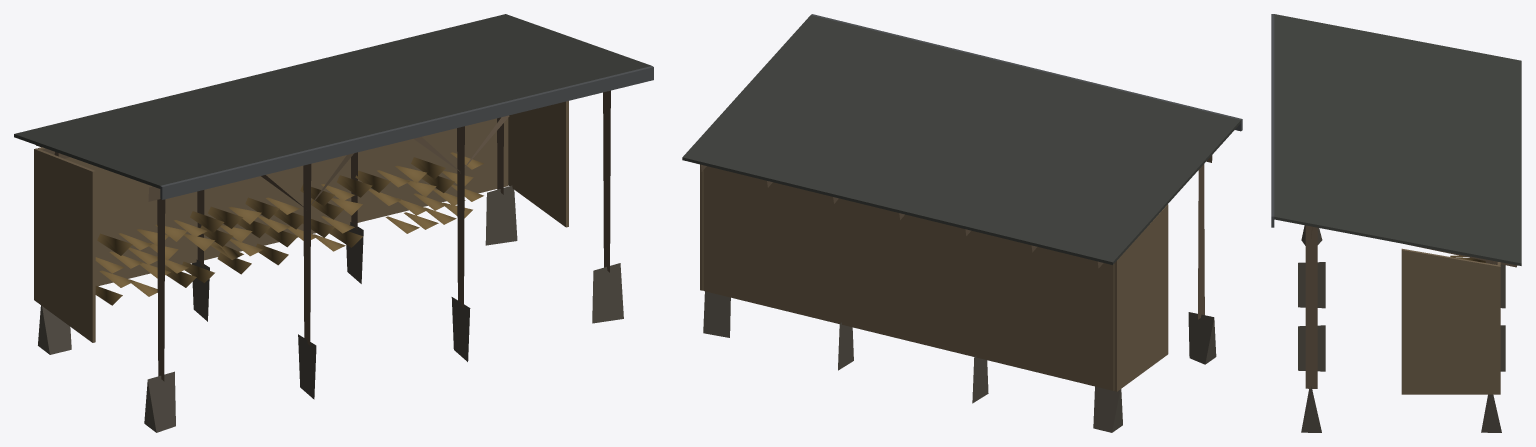
File: shelter-lean-to-lod1.glb
3 renders of one model, left to right at view 1: azimuth 30°, elevation 25°; view 2: azimuth 150°, elevation 25°; view 3: azimuth 270°, elevation 25°, orthographic. The views are drawn at different scales.
Visible parts, largest first — view 1: shelter-lean-to-plinth.001; view 2: shelter-lean-to-plinth.001; view 3: shelter-lean-to-plinth.001.
Part boxes in pixels (left/top/right/bottom): shelter-lean-to-plinth.001: left=14, top=14, right=653, bottom=432; shelter-lean-to-plinth.001: left=682, top=14, right=1242, bottom=432; shelter-lean-to-plinth.001: left=1271, top=14, right=1521, bottom=432.
Bounding box in the file's own units: 6.4 × 3.3 × 3.34.
